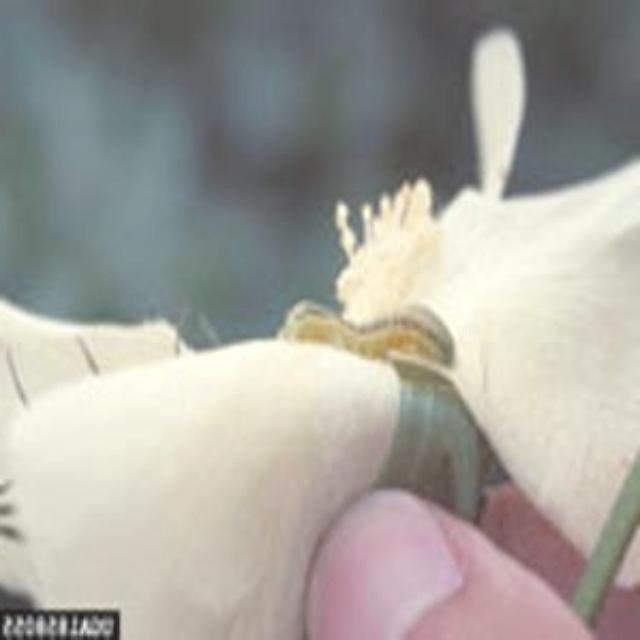Beet armyworm: (252, 276, 476, 408)
